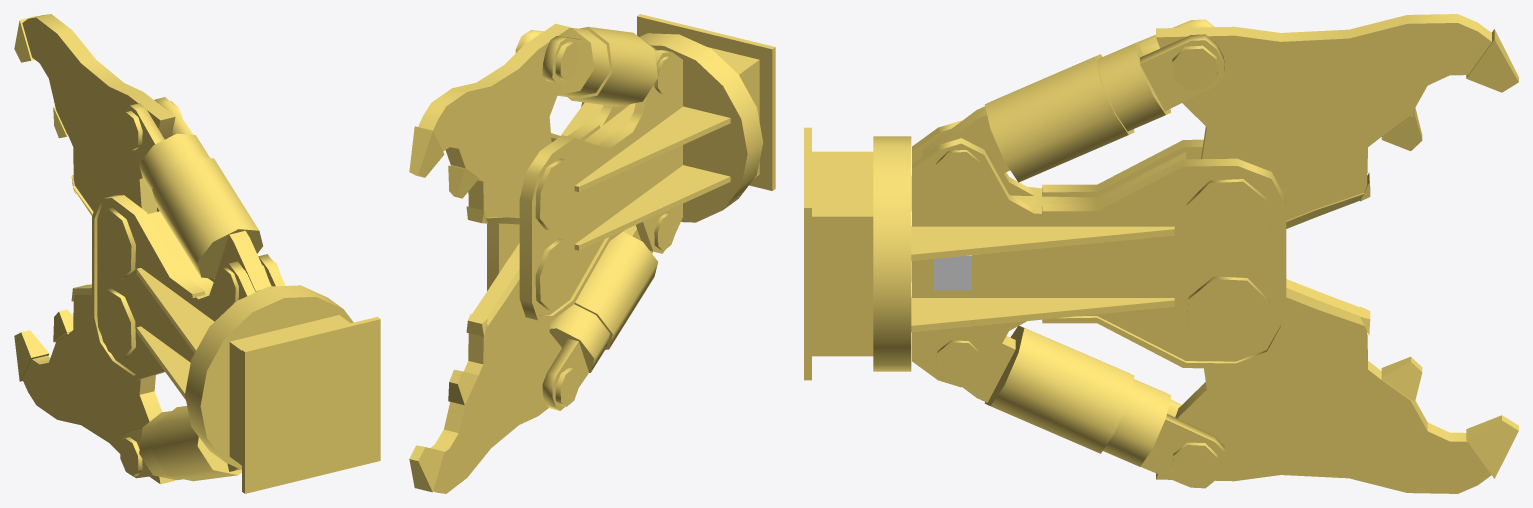
The picture shows the model from 3 angles, left to right: view 1: azimuth 30°, elevation 25°; view 2: azimuth 150°, elevation 25°; view 3: azimuth 270°, elevation 25°; orthographic projection. The views are drawn at different scales.
Parts seen in each view (by area): view 1: CB_2500; view 2: CB_2500; view 3: CB_2500.
Part boxes in pixels (x1,y1,x2,y2): CB_2500: (14,14,380,493); CB_2500: (409,14,775,493); CB_2500: (804,14,1518,493).
Bounding box in the file's own units: 71.46 × 158 × 217.
